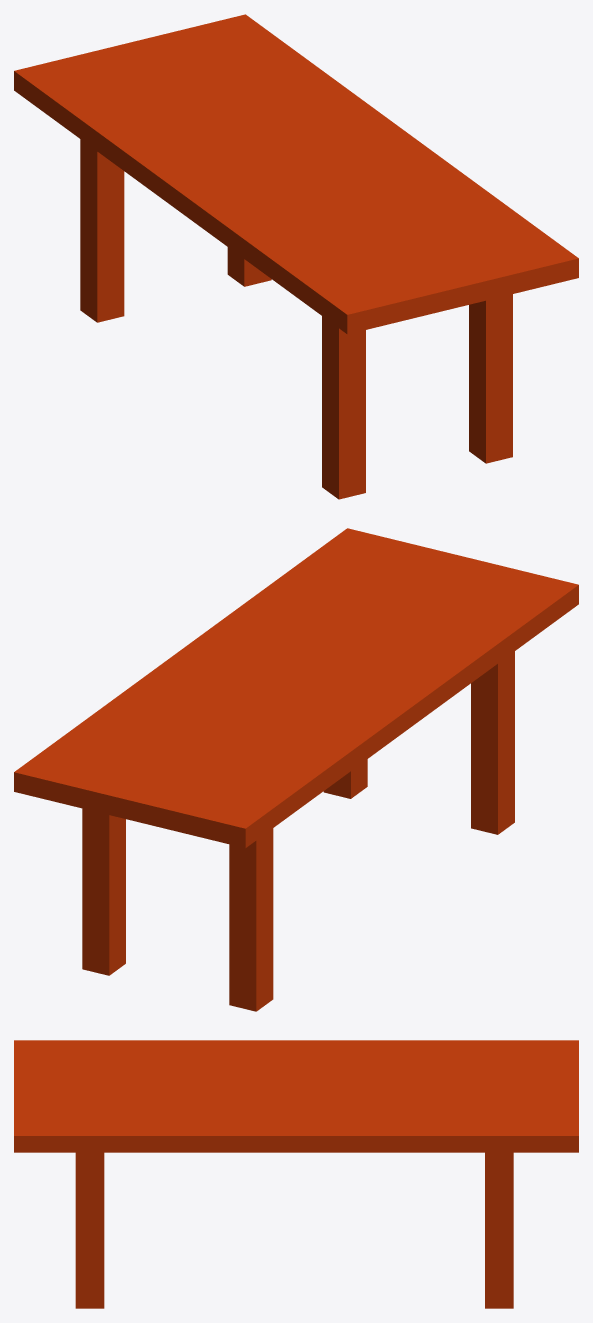
Rendered from Table.fbx.
The picture shows the model from 3 angles, top to bottom: view 1: azimuth 30°, elevation 25°; view 2: azimuth 150°, elevation 25°; view 3: azimuth 270°, elevation 25°; orthographic projection. The views are drawn at different scales.
Parts seen in each view (by area): view 1: Table; view 2: Table; view 3: Table.
Part boxes in pixels (x1=…): Table: x1=14, y1=14, x2=578, y2=499; Table: x1=14, y1=528, x2=578, y2=1011; Table: x1=14, y1=1040, x2=578, y2=1308.
Bounding box in the file's own units: 200 × 180 × 499.
